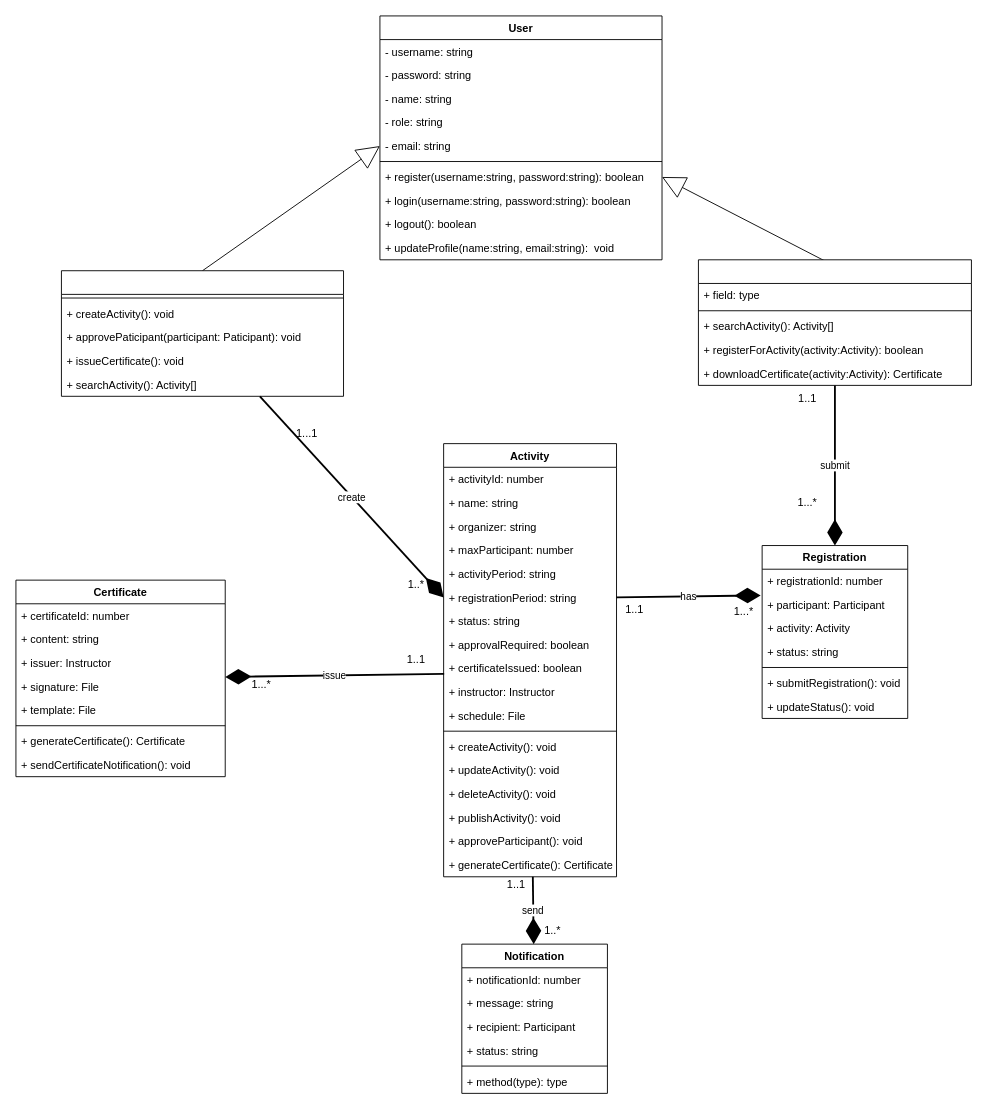
This 987x1112 diagram has some shape labels left out. Each missing label, with the box of its shape:
Instructor: (61, 270, 344, 396)
Paticipant: (698, 259, 971, 385)
